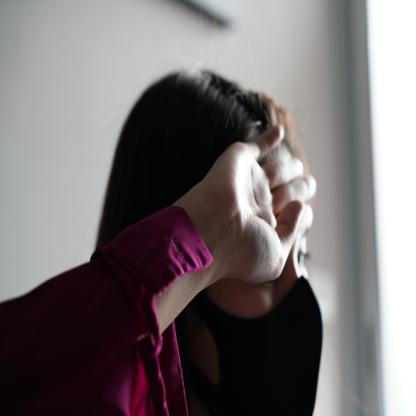Sick: (171, 120, 319, 290)
